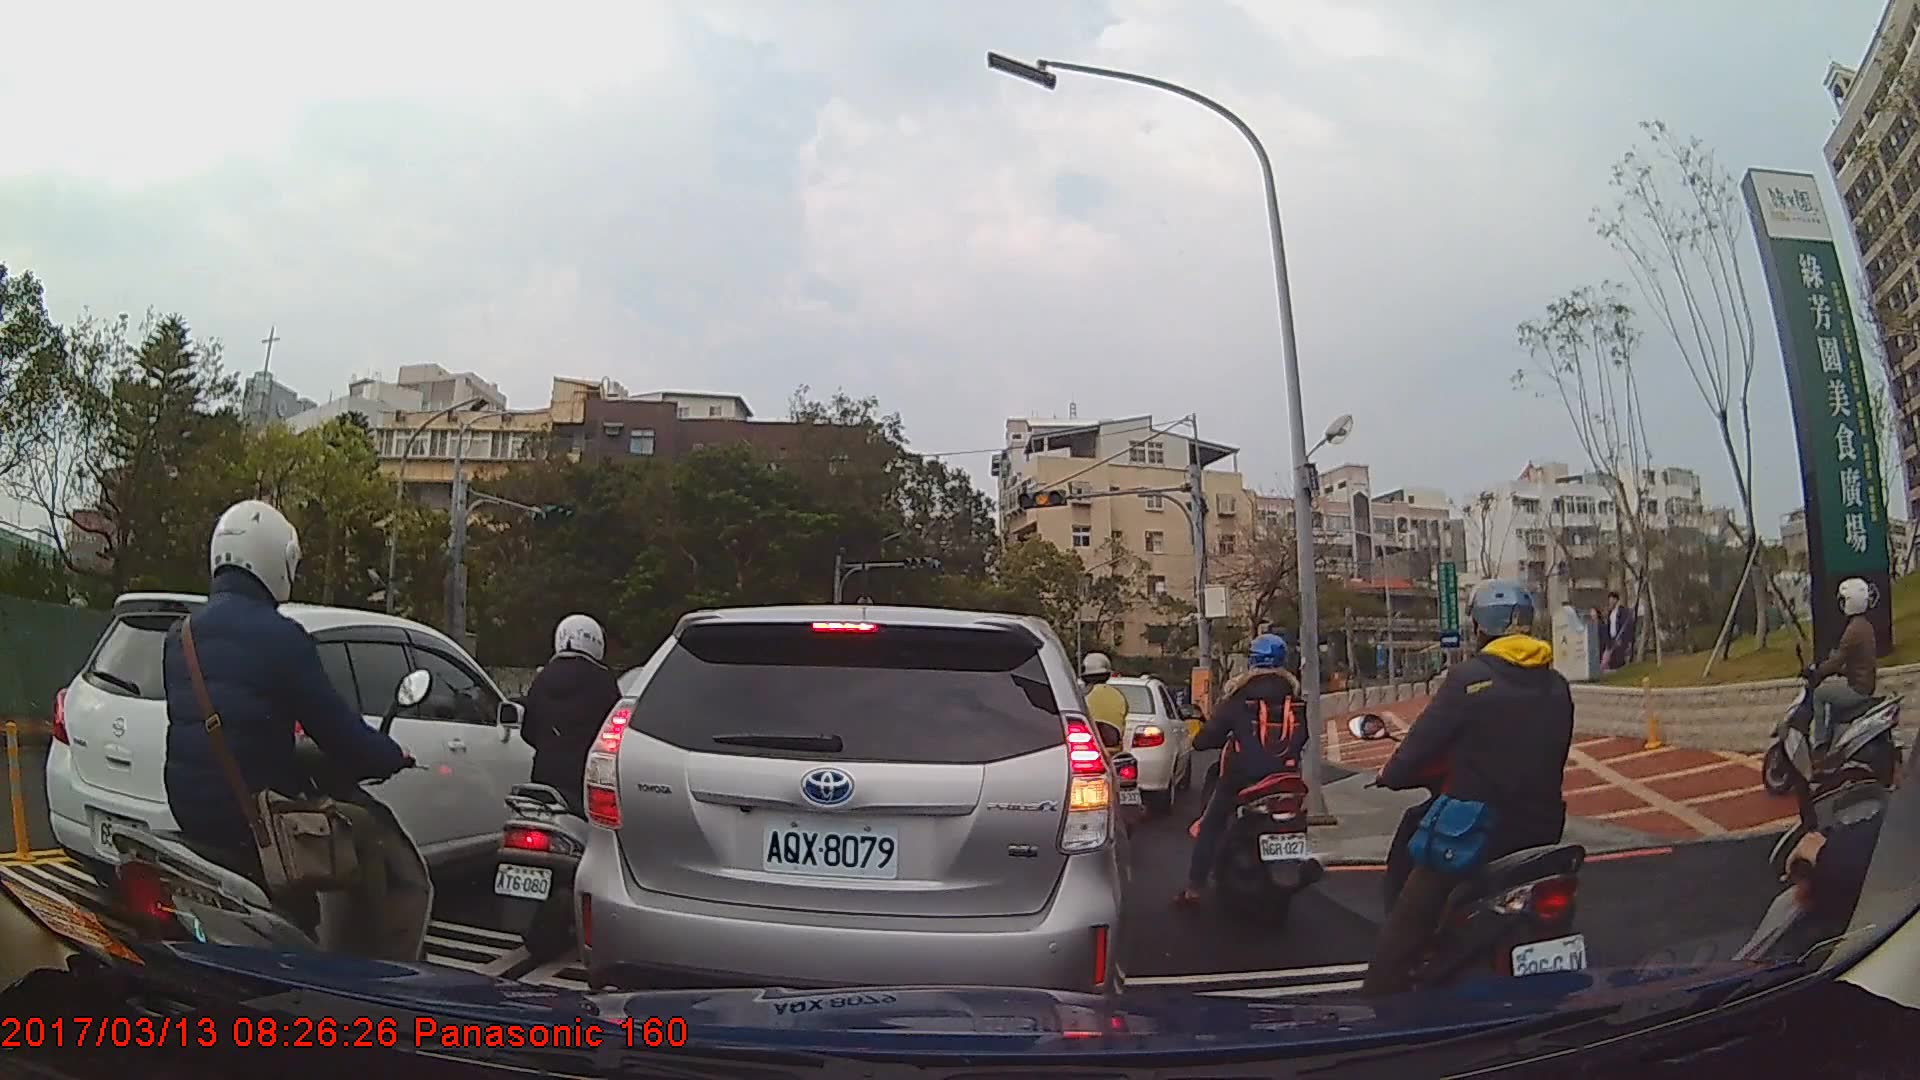pedestrian: (1597, 583, 1640, 680), (1579, 596, 1615, 688)
rider: (99, 500, 438, 1044), (1346, 576, 1599, 1028), (486, 610, 651, 965), (1171, 631, 1330, 935), (1758, 578, 1901, 799), (1056, 653, 1145, 841)
vehicle: (568, 601, 1138, 1032), (40, 591, 572, 928), (1053, 673, 1193, 815)
